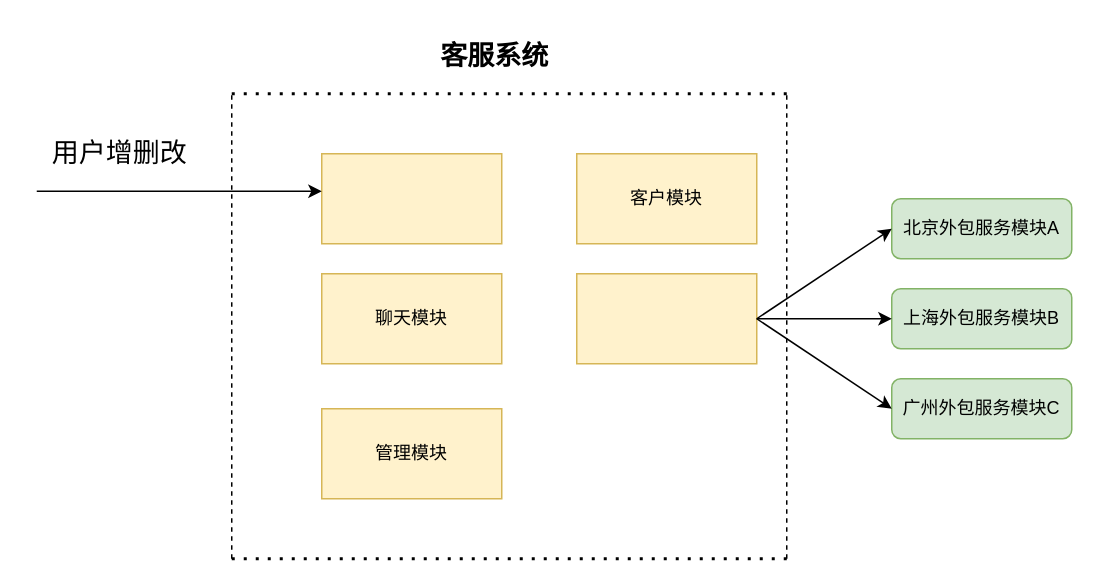
Some shapes in this 1098 by 587 pixel diagram are drawn without their labels. The shapes that lost their labels are listed below. From the top down, each one's centre as x and y in pixels, then its label:
(411,198): 用户模块
(666,318): 集成模块
